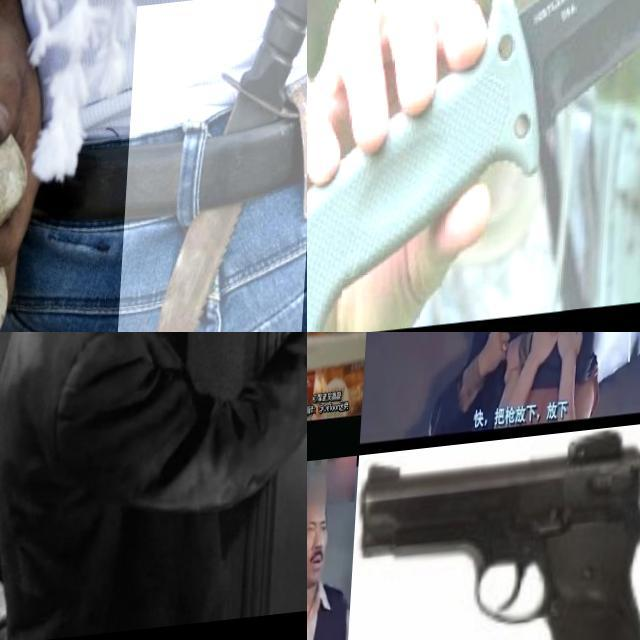-: (307, 0, 640, 332), (120, 0, 307, 332)
gun-knife-thesis - v11 Yolov5 augmented: (353, 440, 640, 640), (307, 509, 330, 617), (480, 332, 535, 376), (307, 374, 325, 430)
